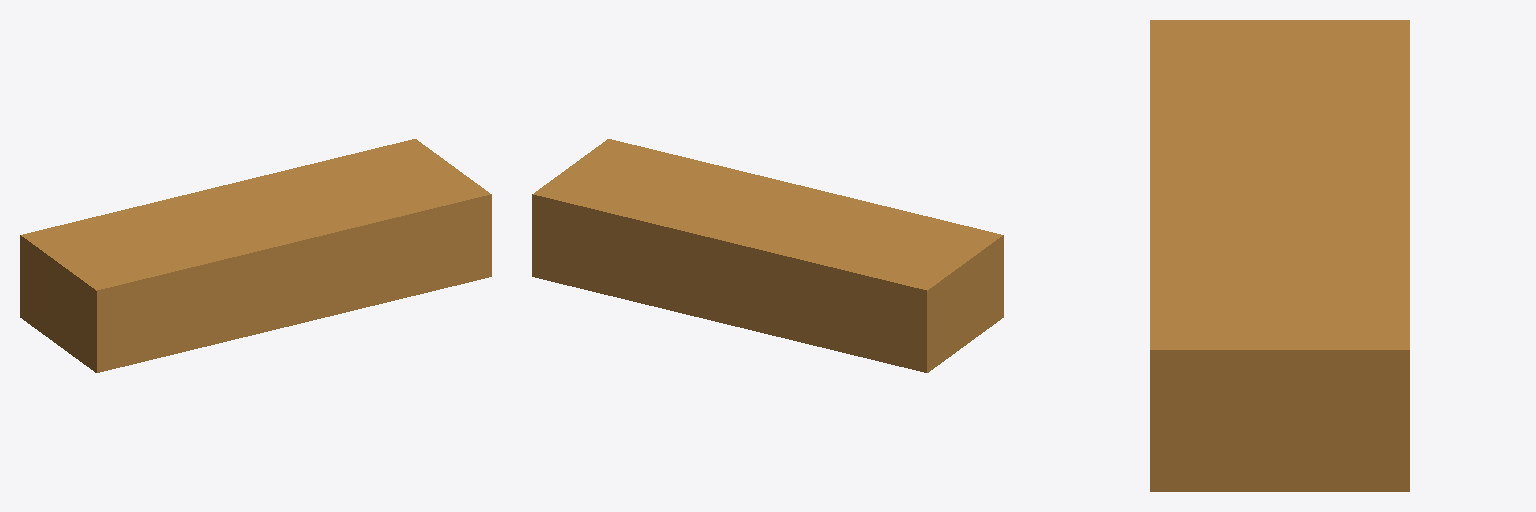
The robot description file, URDF, robot "jenga_block":
<?xml version="1.0"?>
<robot name="jenga_block">

  <link name="jenga_block">
    <visual>
      <origin xyz="0 0 0" rpy="0 0 0"/>
      <geometry>
        <box size="0.15 0.05 0.03"/>
      </geometry>
      <material name="jenga_block_wood">
        <color rgba="0.78 0.58 0.32 1.0"/>
      </material>
    </visual>

    <collision>
      <origin xyz="0 0 0" rpy="0 0 0"/>
      <geometry>
        <box size="0.15 0.05 0.03"/>
      </geometry>
    </collision>

    <inertial>
      <origin xyz="0 0 0" rpy="0 0 0"/>
      <mass value="0.1"/>
      <inertia
        ixx="2.8333333333333335e-05" ixy="0" ixz="0"
        iyy="0.000195" iyz="0"
        izz="0.00020833333333335"/>
    </inertial>
  </link>

</robot>

--- Render facts (derived) ---
The picture shows the robot from 3 angles, left to right: view 1: azimuth 30°, elevation 25°; view 2: azimuth 150°, elevation 25°; view 3: azimuth 270°, elevation 25°; orthographic projection.
Model jenga_block with 1 links and 0 joints (none), rooted at jenga_block, posed every joint at zero.
Visible links, largest first — view 1: jenga_block; view 2: jenga_block; view 3: jenga_block.
Link boxes in pixels (bbox=[...]): jenga_block: bbox=[20, 139, 491, 372]; jenga_block: bbox=[532, 139, 1003, 372]; jenga_block: bbox=[1150, 20, 1409, 491].
Bounding box of the posed robot: 0.15 × 0.05 × 0.03 m (x, y, z).
Geometry: primitives only (box / cylinder / sphere), no mesh files.
